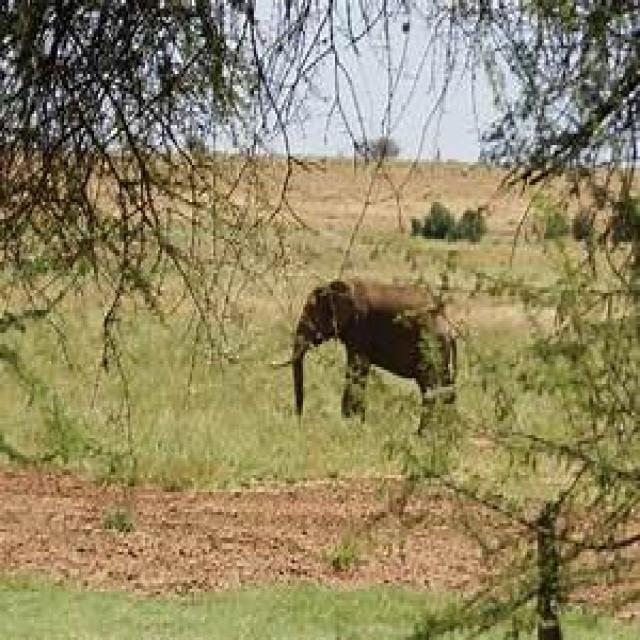elephant: (288, 282, 459, 421)
